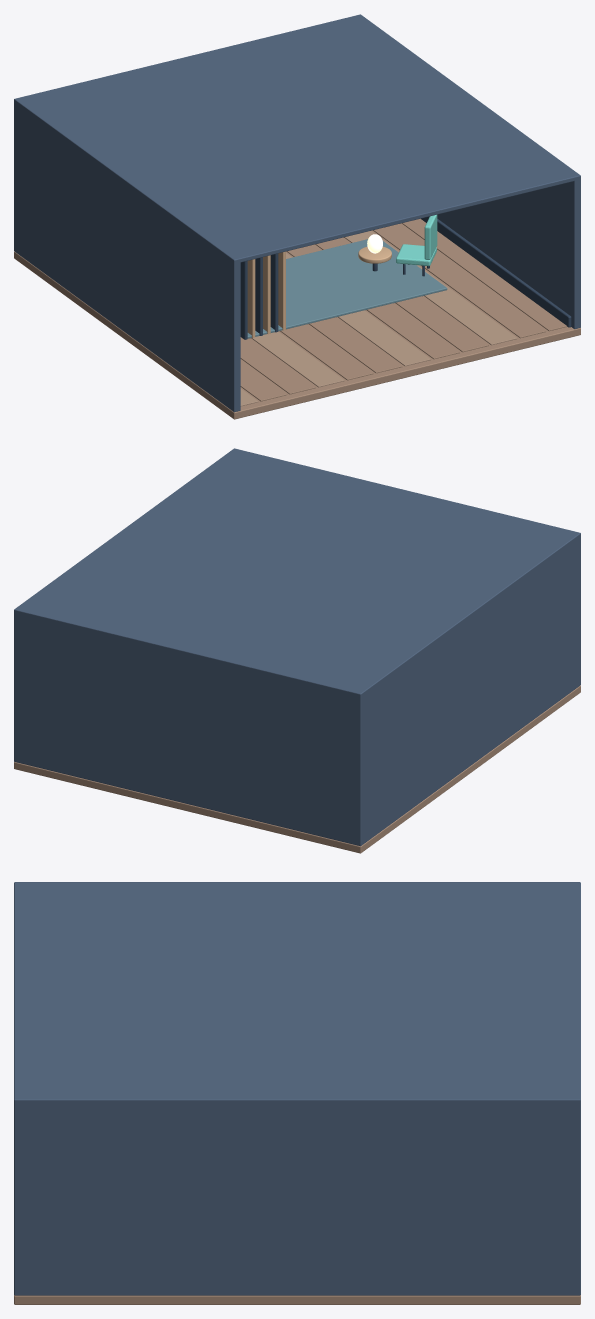
3 views of the same model, one above another, from view 1: azimuth 30°, elevation 25°; view 2: azimuth 150°, elevation 25°; view 3: azimuth 270°, elevation 25° (orthographic). The views are drawn at different scales.
Parts seen in each view (by area): view 1: Personal_Ceiling, Personal_LeftWall, Personal_RightWall, Personal_Rug, Personal_Floor, Personal_FloorPlank_10, Personal_FloorPlank_11, Personal_FloorPlank_9, Personal_FloorPlank_7, Personal_FloorPlank_8, Personal_FloorPlank_6, Personal_FloorPlank_5 (+14 smaller); view 2: Personal_Ceiling, Personal_BackWall, Personal_LeftWall, Personal_Floor, Personal_RightWall; view 3: Personal_Ceiling, Personal_RightWall, Personal_Floor, Personal_BackWall, Personal_LeftWall.
Part boxes in pixels (left/top/right/bottom): Personal_Ceiling: left=15, top=15, right=580, bottom=263; Personal_LeftWall: left=14, top=99, right=240, bottom=412; Personal_RightWall: left=356, top=15, right=580, bottom=329; Personal_Rug: left=247, top=239, right=447, bottom=338; Personal_Floor: left=14, top=223, right=580, bottom=419; Personal_FloorPlank_10: left=373, top=224, right=546, bottom=338; Personal_FloorPlank_11: left=402, top=218, right=567, bottom=331; Personal_FloorPlank_9: left=344, top=231, right=517, bottom=345; Personal_FloorPlank_7: left=286, top=245, right=459, bottom=359; Personal_FloorPlank_8: left=315, top=238, right=488, bottom=352; Personal_FloorPlank_6: left=286, top=253, right=431, bottom=366; Personal_FloorPlank_5: left=309, top=317, right=402, bottom=373; Personal_Ceiling: left=16, top=448, right=580, bottom=696; Personal_BackWall: left=14, top=608, right=364, bottom=846; Personal_LeftWall: left=354, top=532, right=580, bottom=845; Personal_Floor: left=14, top=685, right=580, bottom=853; Personal_RightWall: left=14, top=448, right=239, bottom=732; Personal_Ceiling: left=14, top=882, right=580, bottom=1104; Personal_RightWall: left=14, top=1095, right=580, bottom=1295; Personal_Floor: left=14, top=1295, right=580, bottom=1304; Personal_BackWall: left=571, top=882, right=580, bottom=1295; Personal_LeftWall: left=14, top=882, right=579, bottom=885.
Size of the model in its own units: 10 by 4.4 by 11.
